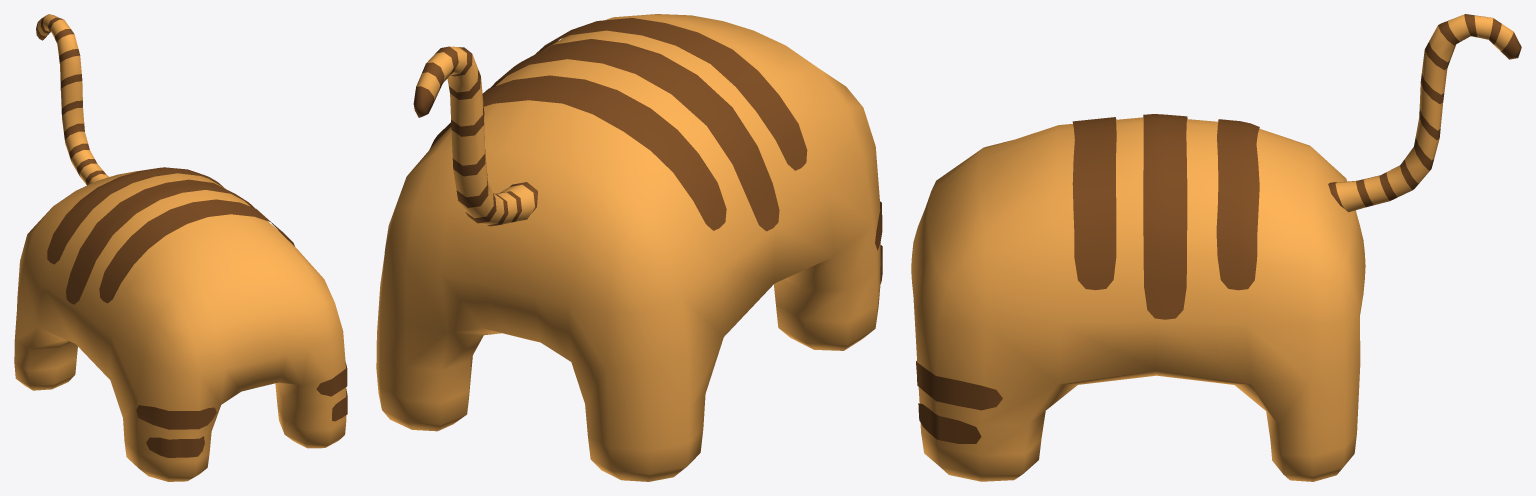
Rendered from tigerbody.fbx.
The picture shows the model from 3 angles, left to right: view 1: azimuth 30°, elevation 25°; view 2: azimuth 150°, elevation 25°; view 3: azimuth 270°, elevation 25°; orthographic projection. The views are drawn at different scales.
Visible parts, largest first — view 1: tiger_body; view 2: tiger_body; view 3: tiger_body.
Boxes of the visible parts, x1,y1,x2,y2 form: tiger_body: (14, 14, 347, 481); tiger_body: (376, 14, 882, 481); tiger_body: (911, 14, 1521, 481).
Size of the model in its own units: 37.75 by 53.25 by 71.98.
